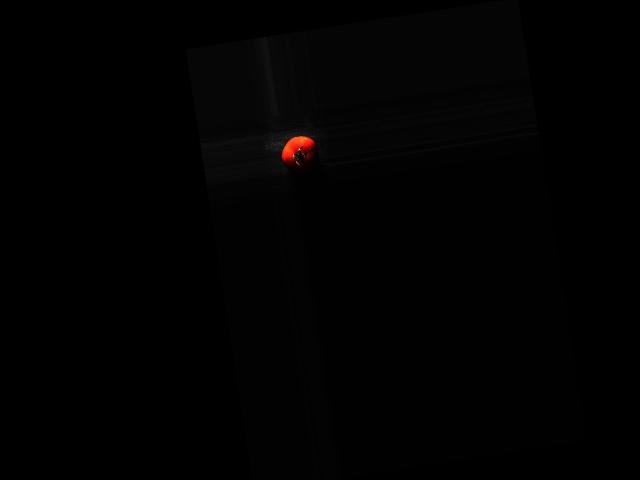tomato: (279, 133, 321, 176)
